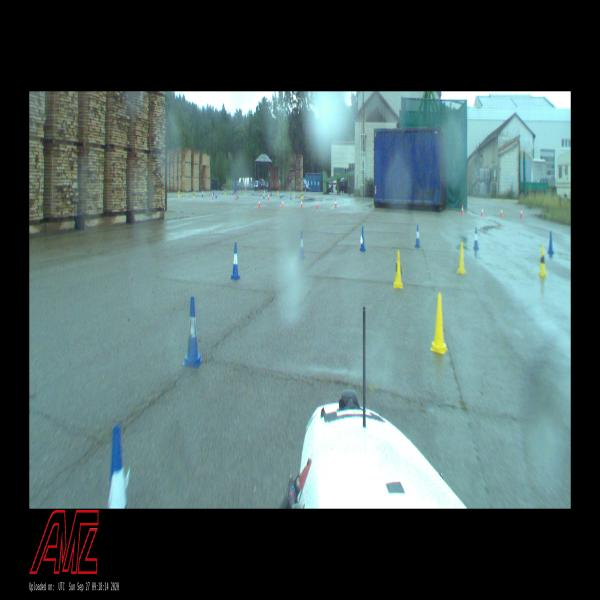blue_cone: (108, 424, 127, 508), (184, 297, 202, 369), (231, 242, 240, 280), (414, 224, 421, 248), (299, 232, 305, 260), (360, 225, 366, 252), (547, 233, 554, 255), (473, 228, 478, 249), (202, 188, 204, 197), (281, 190, 283, 197), (263, 192, 265, 199), (215, 191, 217, 198), (270, 189, 272, 196), (290, 193, 292, 200), (237, 191, 238, 199)
orange_cone: (481, 206, 484, 217), (300, 198, 303, 209), (500, 207, 503, 217), (258, 198, 261, 208), (334, 198, 337, 208), (461, 205, 464, 215), (520, 208, 522, 218), (316, 199, 318, 209), (282, 199, 284, 209), (235, 191, 237, 200), (268, 193, 269, 200), (212, 192, 213, 199)
yellow_cone: (430, 293, 448, 355), (393, 253, 402, 290), (458, 242, 466, 275), (538, 246, 546, 278), (193, 190, 195, 199), (179, 189, 181, 197), (300, 192, 302, 199), (293, 190, 295, 197), (224, 188, 226, 194), (277, 190, 279, 196), (178, 190, 179, 197), (187, 189, 188, 196), (245, 189, 246, 195)
